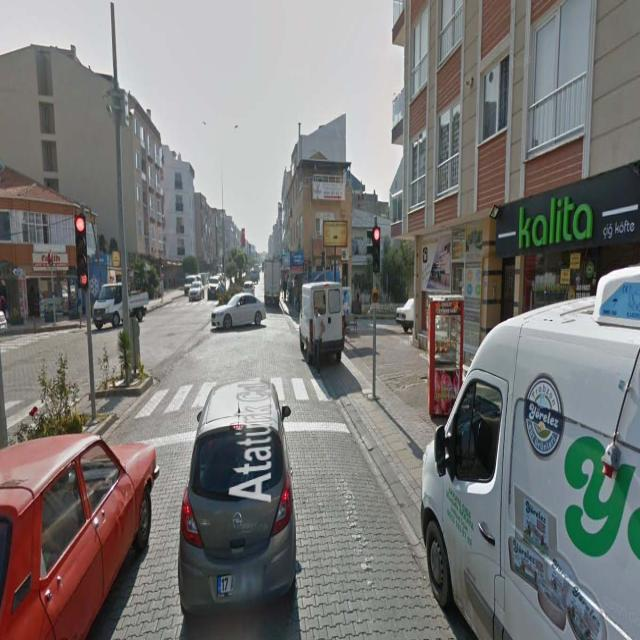kirmizi: (74, 215, 88, 275), (372, 230, 380, 270)
